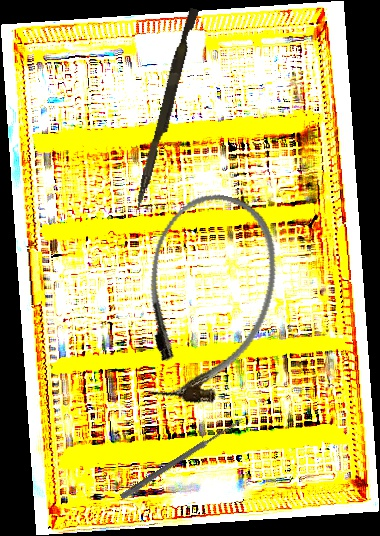Cannula: (120, 182, 294, 417)
Pusher: (133, 6, 200, 213)
Surgical Spoon: (119, 416, 245, 501)
